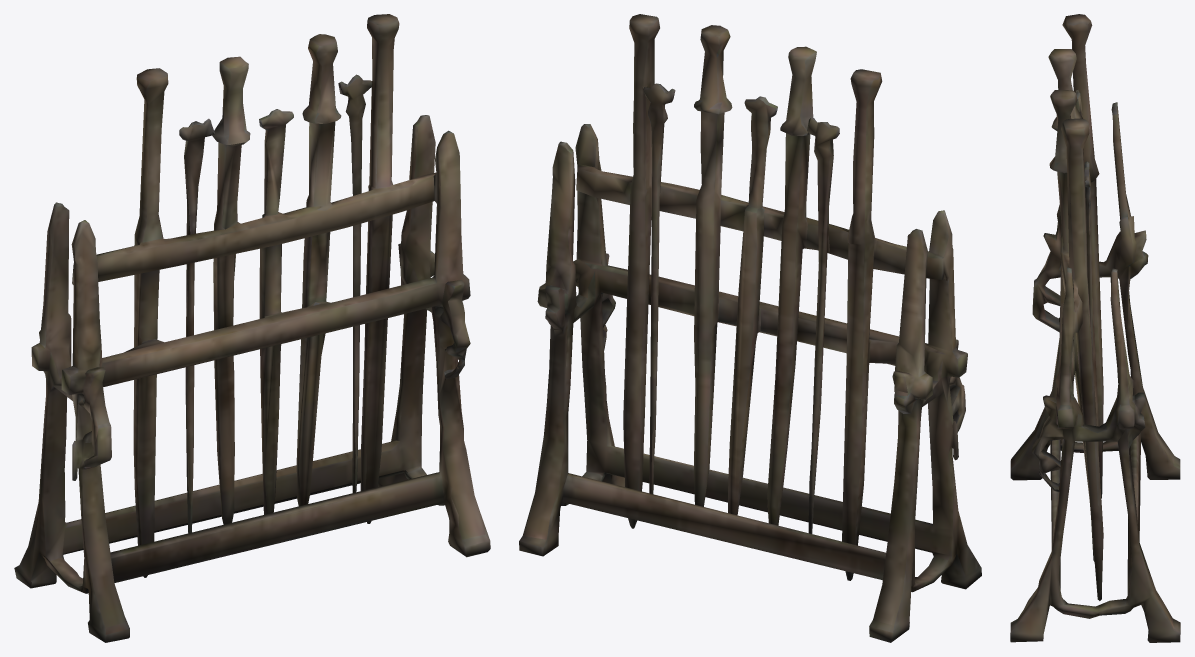
The model's file is simple-wood-weapon-rack-v001.glb.
The picture shows the model from 3 angles, left to right: view 1: azimuth 30°, elevation 25°; view 2: azimuth 150°, elevation 25°; view 3: azimuth 270°, elevation 25°; orthographic projection. The views are drawn at different scales.
Parts seen in each view (by area): view 1: simple-wood-weapon-rack; view 2: simple-wood-weapon-rack; view 3: simple-wood-weapon-rack.
Part boxes in pixels (bbox=[...]): simple-wood-weapon-rack: bbox=[14, 14, 490, 642]; simple-wood-weapon-rack: bbox=[519, 14, 981, 642]; simple-wood-weapon-rack: bbox=[1010, 14, 1180, 642].
Bounding box in the file's own units: 1.23 × 1.55 × 0.4865.
1 material, 1 textured.
